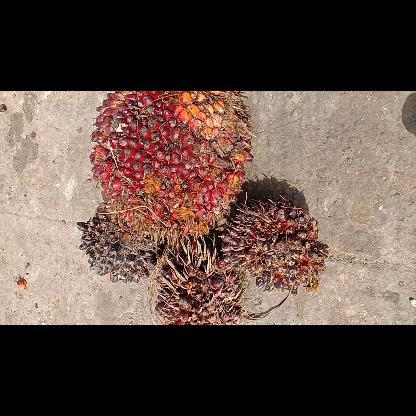TBS abnormal: (218, 198, 332, 294), (153, 238, 247, 324), (73, 200, 163, 286)
TBS masak: (86, 90, 256, 250)
